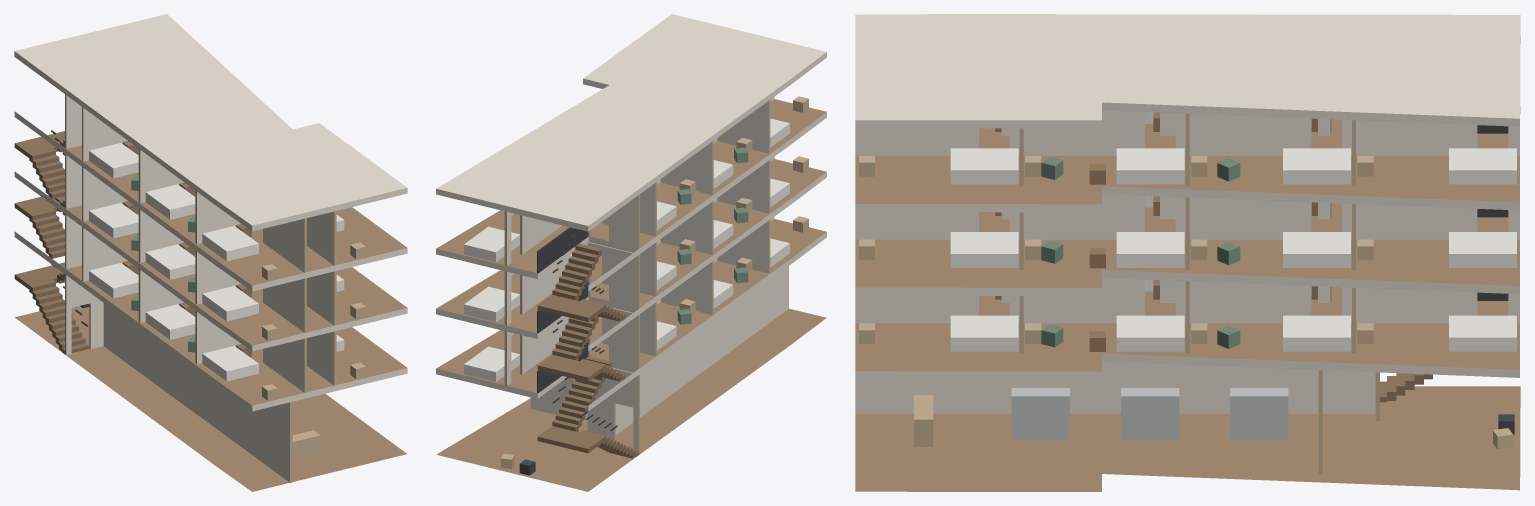
Rendered from interior.glb.
3 views of the same model, side by side, from view 1: azimuth 30°, elevation 25°; view 2: azimuth 150°, elevation 25°; view 3: azimuth 270°, elevation 25° (orthographic). The views are drawn at different scales.
Visible parts, largest first — view 1: slabs, partitions, stair, coarse-s3, coarse-s1, coarse-s2, coarse-s0; view 2: slabs, partitions, stair, coarse-s2, coarse-s1, coarse-s3, coarse-s0; view 3: slabs, partitions, coarse-s3, coarse-s1, coarse-s2, coarse-s0, stair.
Part boxes in pixels (<box>): slabs: <box>14,14,407,491</box>; partitions: <box>65,94,336,482</box>; stair: <box>14,130,88,354</box>; coarse-s3: <box>89,141,365,280</box>; coarse-s1: <box>89,261,365,400</box>; coarse-s2: <box>89,201,365,340</box>; coarse-s0: <box>80,304,320,461</box>; slabs: <box>436,14,826,491</box>; partitions: <box>504,97,788,454</box>; stair: <box>537,227,639,458</box>; coarse-s2: <box>464,156,808,321</box>; coarse-s1: <box>464,216,808,381</box>; coarse-s3: <box>464,96,808,261</box>; coarse-s0: <box>500,453,535,475</box>; slabs: <box>855,14,1520,491</box>; partitions: <box>855,110,1519,473</box>; coarse-s3: <box>859,112,1516,184</box>; coarse-s1: <box>859,279,1516,351</box>; coarse-s2: <box>859,196,1516,268</box>; coarse-s0: <box>914,388,1514,449</box>; stair: <box>1380,125,1508,402</box>.
Bounding box in the file's own units: 7.38 × 12.03 × 19.49.
